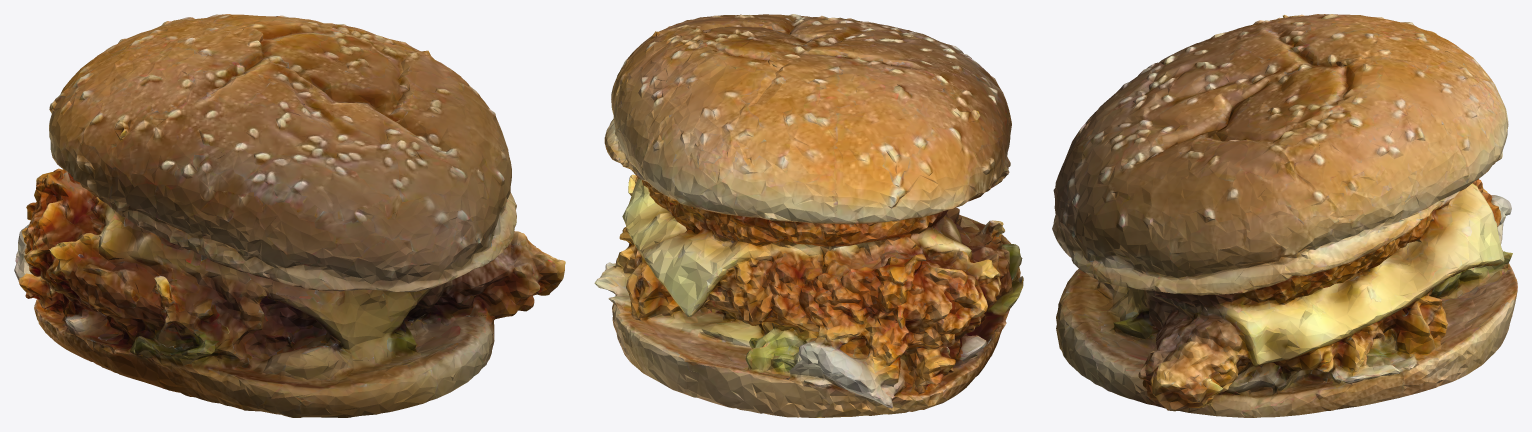
File: KFC.glb
3 renders of one model, left to right at view 1: azimuth 30°, elevation 25°; view 2: azimuth 150°, elevation 25°; view 3: azimuth 270°, elevation 25°, orthographic. The views are drawn at different scales.
Parts seen in each view (by area): view 1: mesh_0; view 2: mesh_0; view 3: mesh_0.
Boxes of the visible parts, bbox=[...] form: mesh_0: bbox=[14, 14, 565, 417]; mesh_0: bbox=[594, 14, 1023, 417]; mesh_0: bbox=[1052, 14, 1517, 417].
Size of the model in its own units: 0.1254 by 0.0755 by 0.1149.
Materials: 1 (1 with a texture image).
